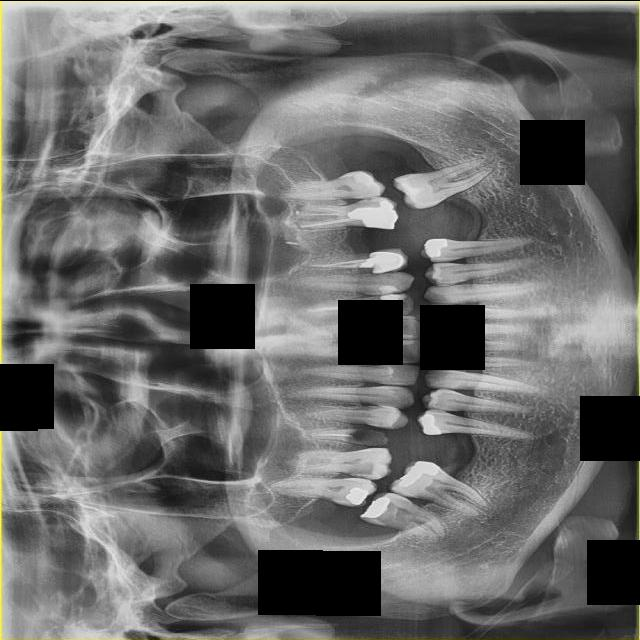72: (284, 233, 319, 255)
74: (309, 258, 366, 273), (306, 301, 376, 312), (300, 215, 358, 227), (313, 204, 347, 212), (316, 431, 350, 437), (297, 212, 344, 216)
NucleOSS Implant: (346, 196, 399, 228), (393, 454, 442, 488), (357, 491, 395, 524), (416, 409, 442, 439), (344, 481, 371, 508), (422, 236, 449, 258), (358, 254, 396, 267)
Sterngold Implant: (345, 428, 387, 446), (345, 462, 374, 478), (377, 297, 408, 310), (374, 419, 389, 428), (362, 195, 379, 202)
Straumann Implant: (351, 168, 386, 191), (377, 282, 403, 295), (379, 292, 407, 304), (381, 300, 400, 315), (390, 338, 418, 345), (393, 333, 418, 339), (384, 325, 398, 334)
Zimmer Implant: (369, 245, 410, 274)
